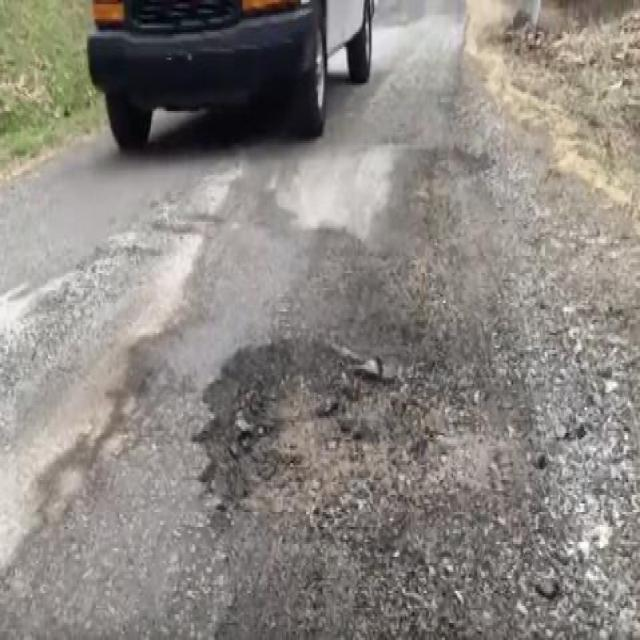jalan_berlubang: (218, 348, 404, 536)
